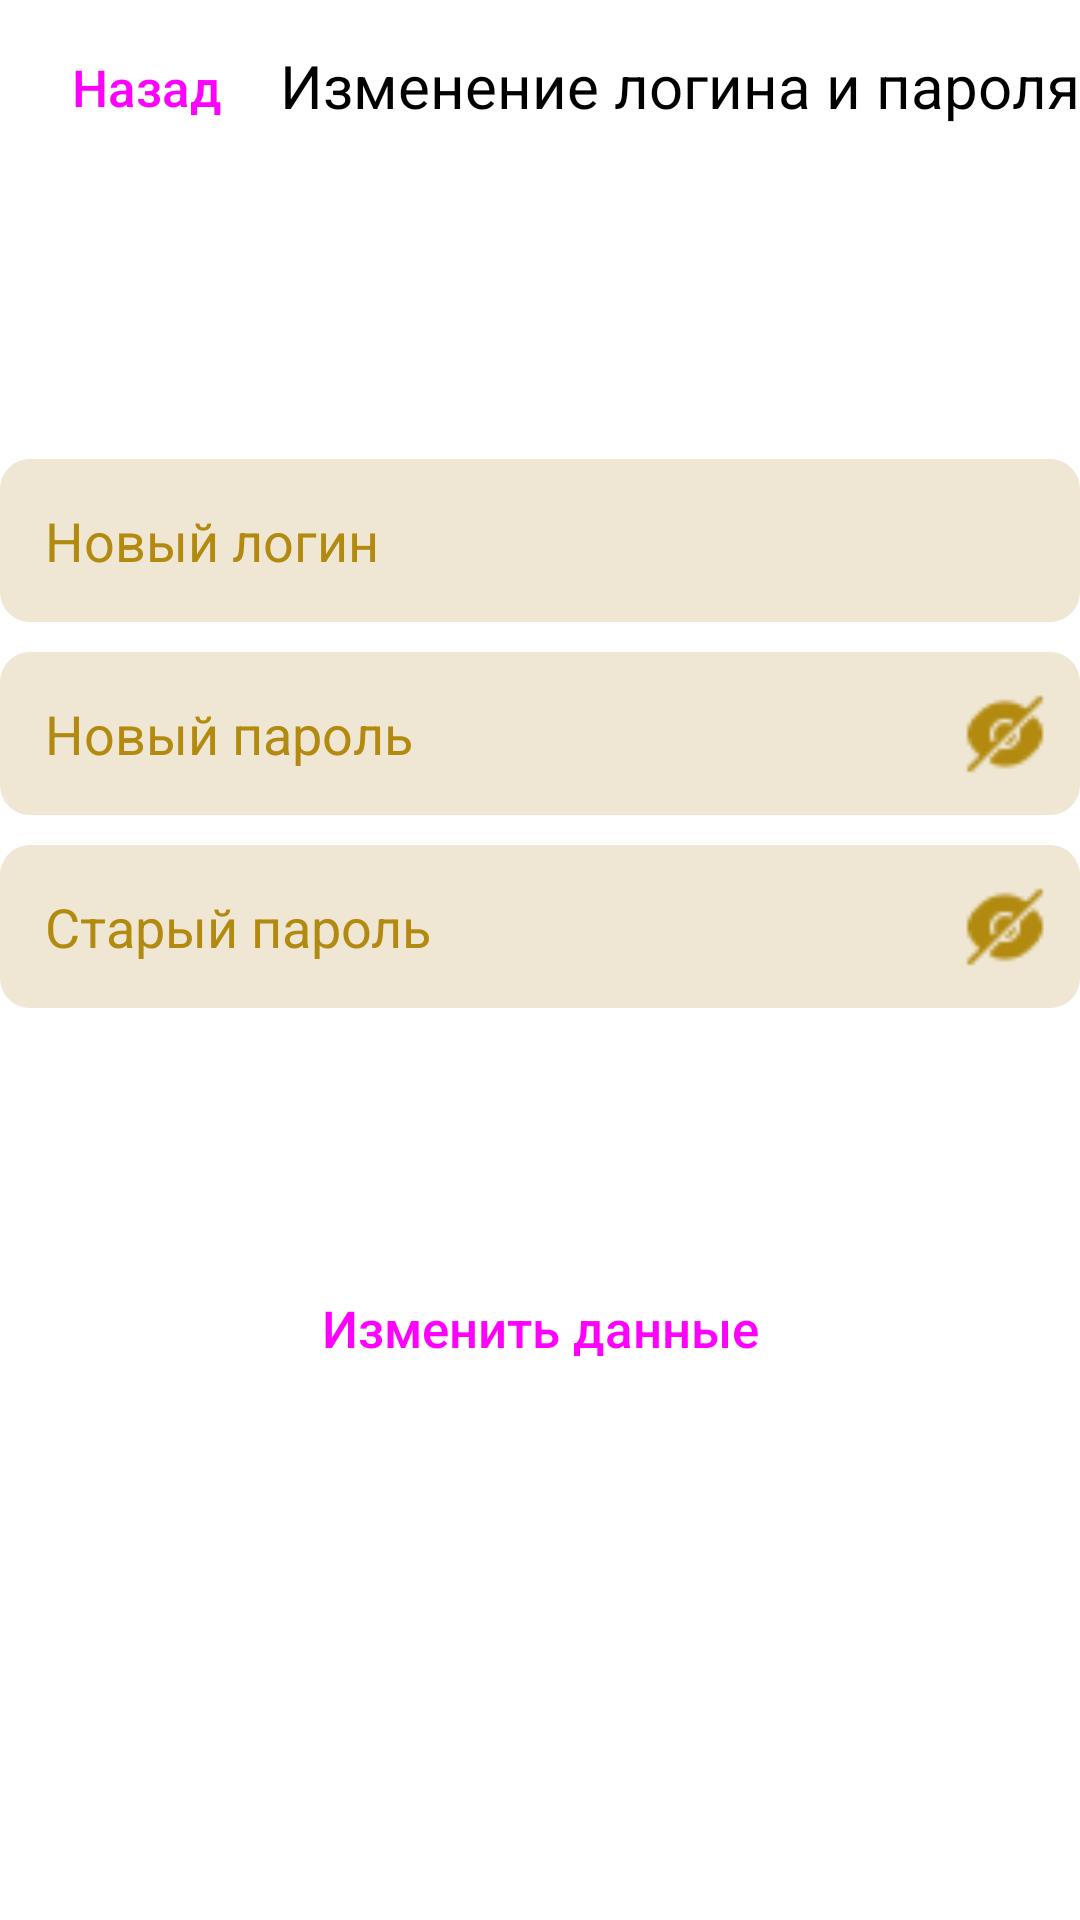

Screen size 1080*1920. Icon name, then its box in pixels as Rect(x1, y1, x2, y2):
not visible: Rect(966, 695, 1044, 773), Rect(966, 888, 1044, 966)
